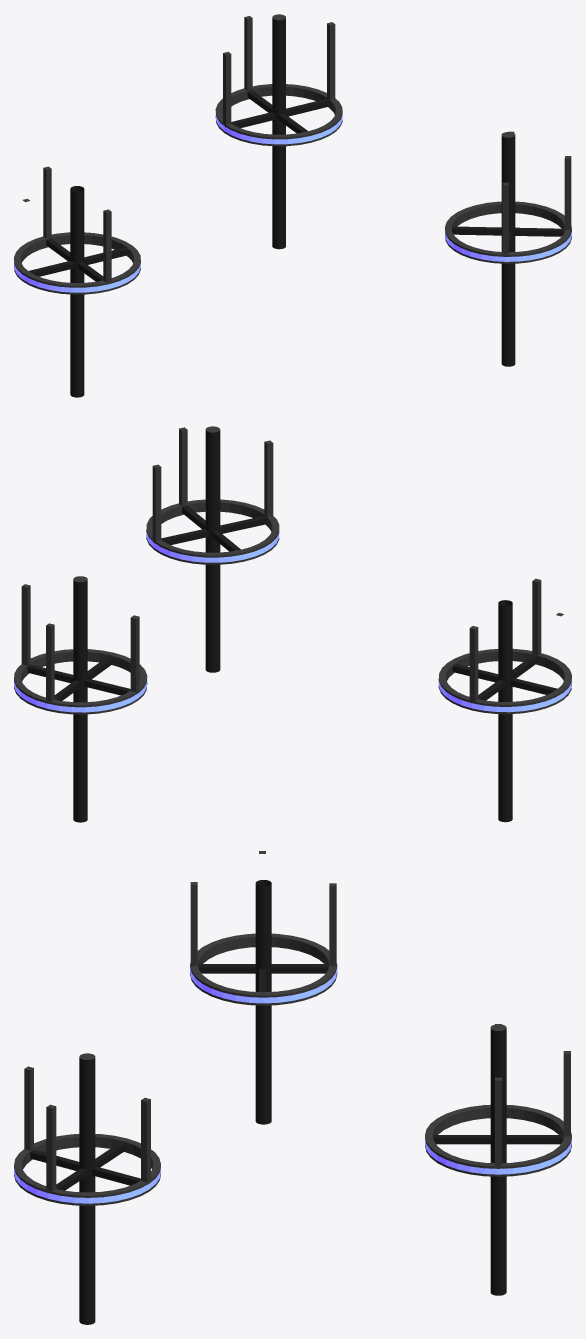
Rendered from Pillars.fbx.
The picture shows the model from 3 angles, top to bottom: view 1: azimuth 30°, elevation 25°; view 2: azimuth 150°, elevation 25°; view 3: azimuth 270°, elevation 25°; orthographic projection. The views are drawn at different scales.
Parts seen in each view (by area): view 1: Pillar1, Pillar3, Pillar2; view 2: Pillar2, Pillar1, Pillar3; view 3: Pillar2, Pillar3, Pillar1.
Part boxes in pixels (x1,y1,x2,y2): Pillar1: (215,14,342,249); Pillar3: (14,166,140,397); Pillar2: (445,131,571,366); Pillar2: (146,426,279,672); Pillar1: (14,576,147,822); Pillar3: (438,578,571,822); Pillar2: (14,1053,160,1324); Pillar3: (190,851,337,1124); Pillar1: (425,1024,571,1295).
Bounding box in the file's own units: 287 × 135 × 258.
